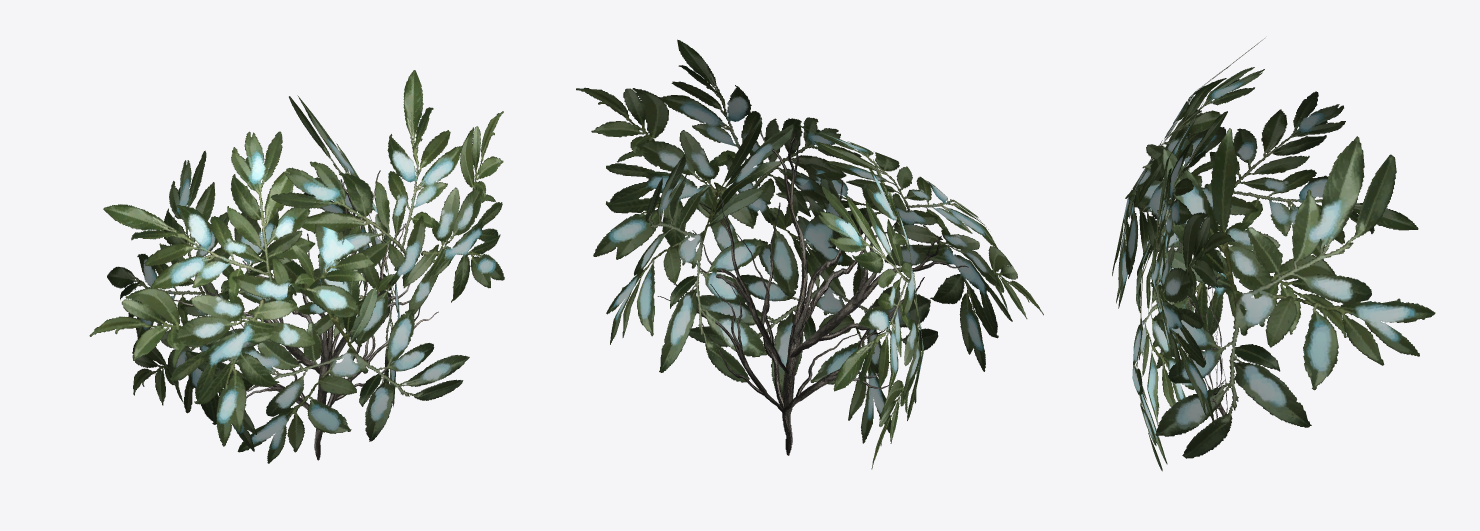
File: bushes02_01_snow.obj
3 renders of one model, left to right at view 1: azimuth 30°, elevation 25°; view 2: azimuth 150°, elevation 25°; view 3: azimuth 270°, elevation 25°, orthographic. The views are drawn at different scales.
Visible parts, largest first — view 1: bushes02_01_snow; view 2: bushes02_01_snow; view 3: bushes02_01_snow.
Part boxes in pixels (x1,y1,x2,y2): bushes02_01_snow: [89, 70, 504, 463]; bushes02_01_snow: [576, 39, 1043, 469]; bushes02_01_snow: [1112, 38, 1435, 471].
Bounding box in the file's own units: 206 × 175 × 123.
1 material, 1 textured.
